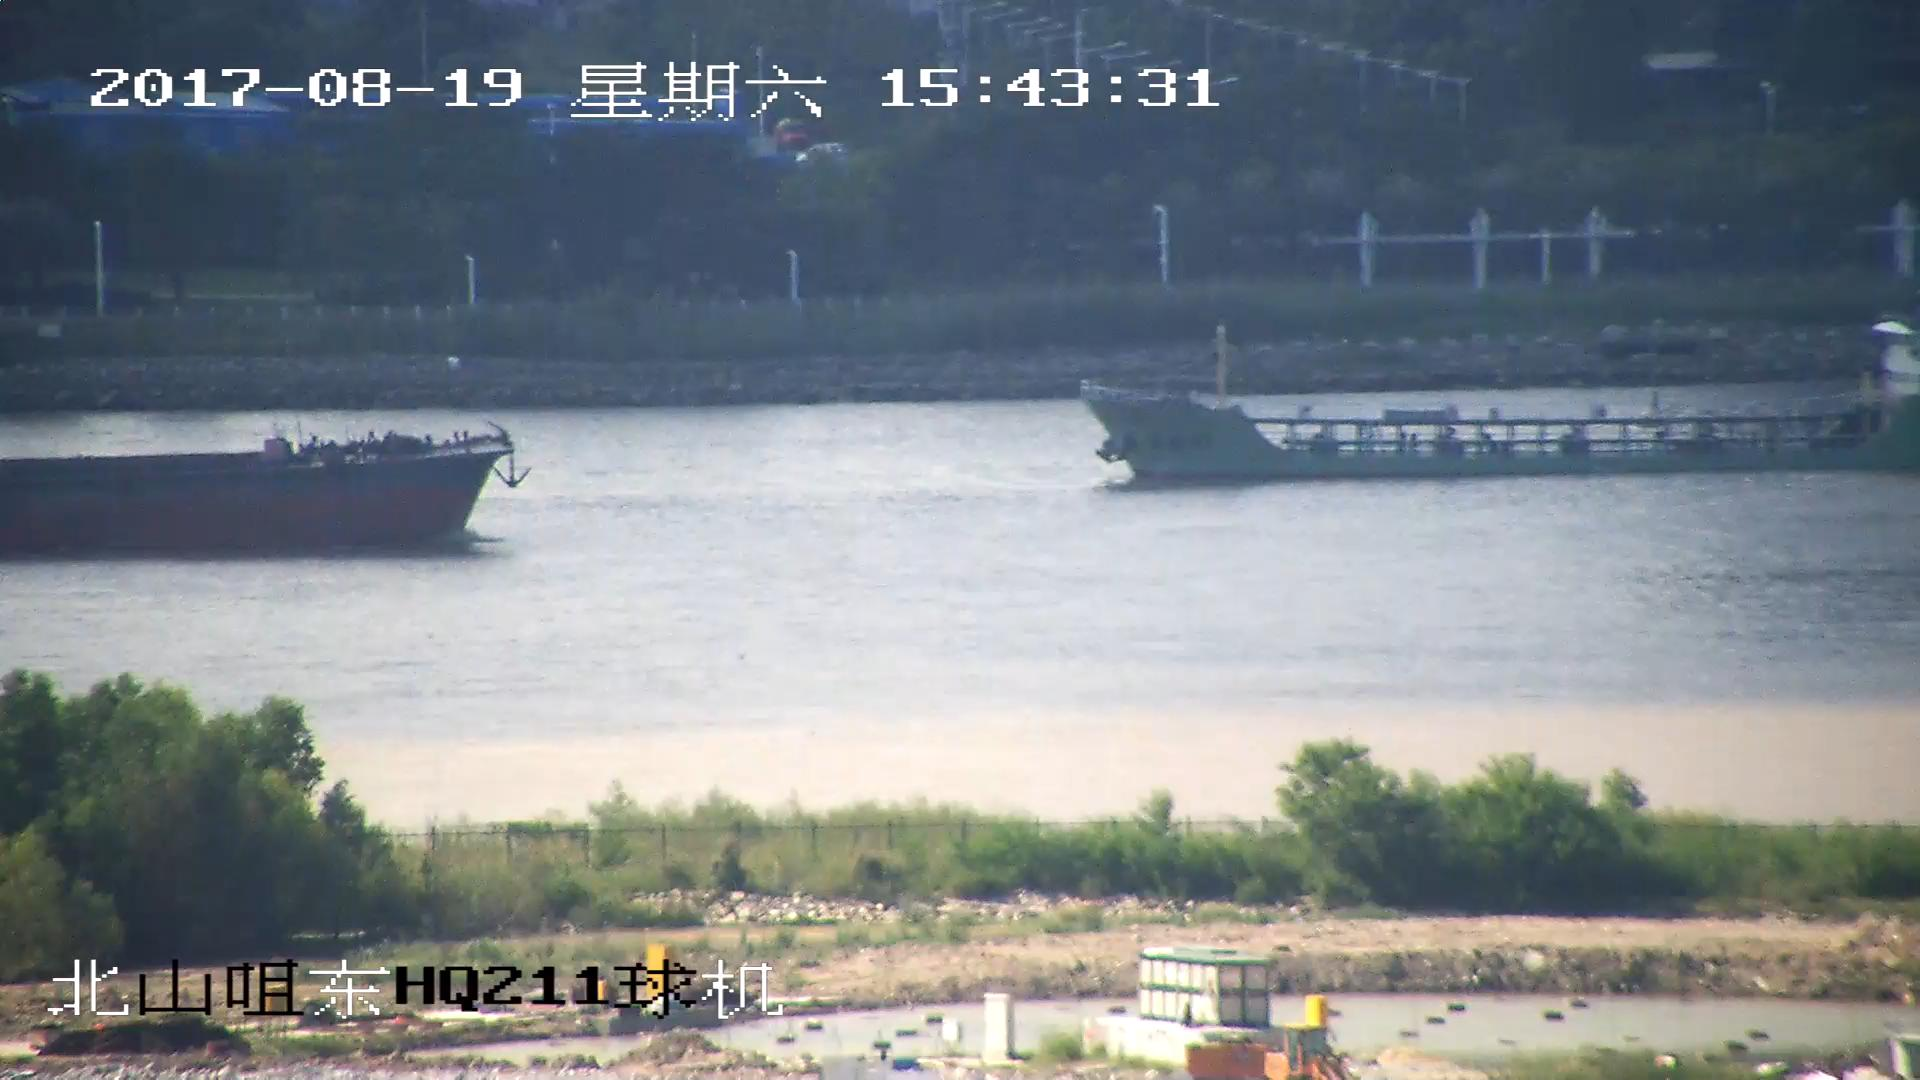bulk cargo carrier: (1, 429, 524, 558)
general cargo ship: (1085, 323, 1920, 477)
